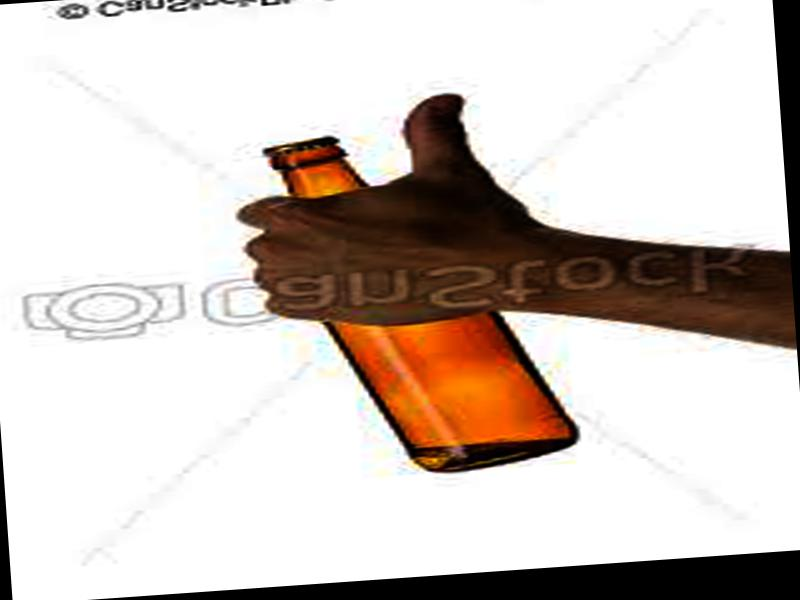Beer: (267, 123, 581, 482)
